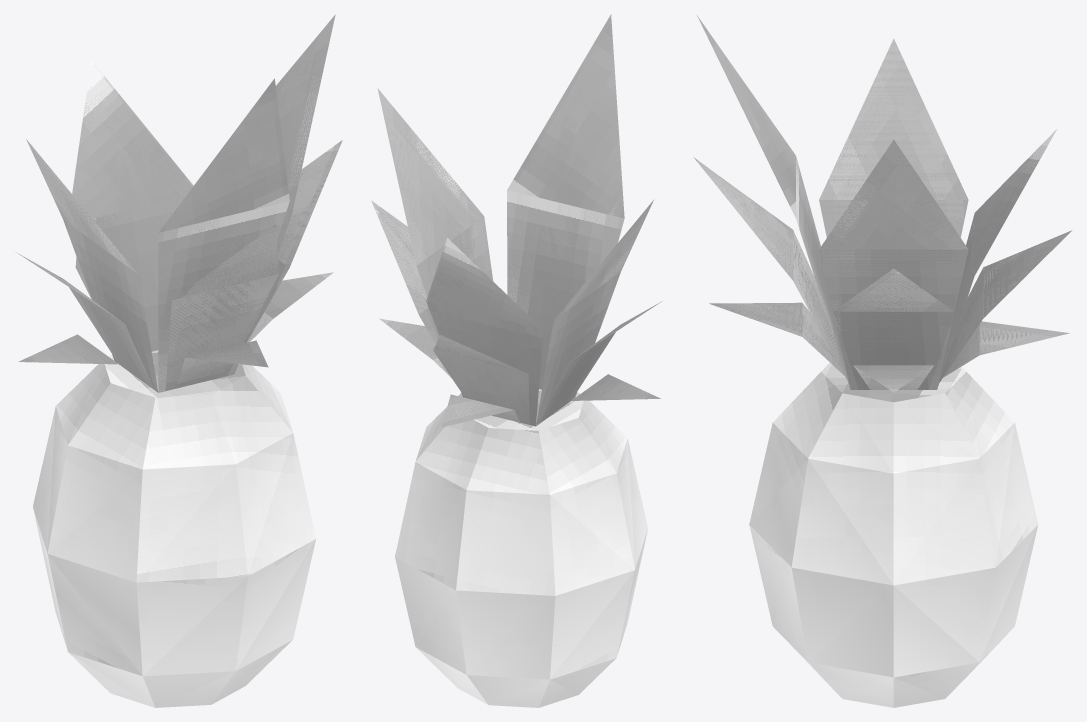
Rendered from pineapple.glb.
3 renders of one model, left to right at view 1: azimuth 30°, elevation 25°; view 2: azimuth 150°, elevation 25°; view 3: azimuth 270°, elevation 25°, orthographic. The views are drawn at different scales.
Parts seen in each view (by area): view 1: pineapple, pineapple.001; view 2: pineapple, pineapple.001; view 3: pineapple, pineapple.001.
Boxes of the visible parts, box(x1,y1,x2,y2) form: pineapple: box(33, 350, 315, 707); pineapple.001: box(16, 14, 342, 392); pineapple: box(395, 389, 647, 707); pineapple.001: box(371, 14, 662, 427); pineapple: box(749, 363, 1038, 707); pineapple.001: box(693, 15, 1072, 392).
Size of the model in its own units: 0.1804 by 0.3527 by 0.1831.
Materials: 1 (1 with a texture image).
